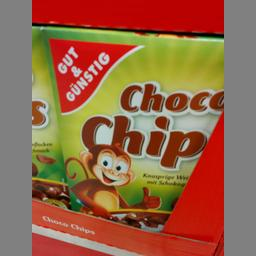cereal: (40, 25, 224, 232)
